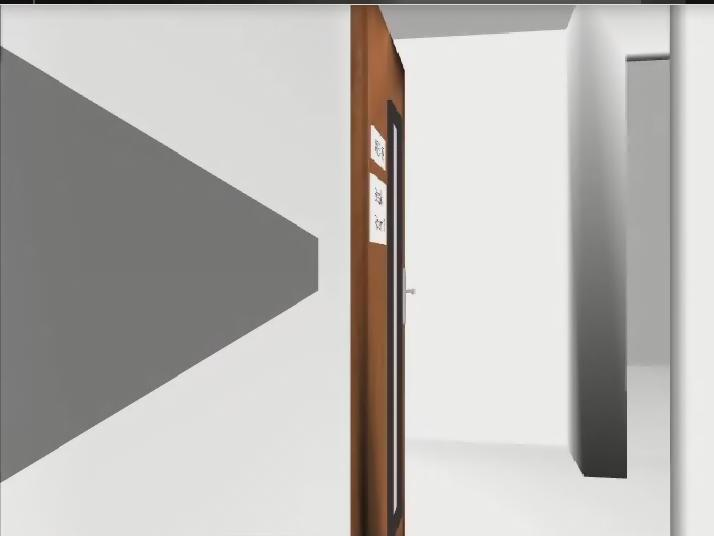door: (351, 6, 416, 536)
